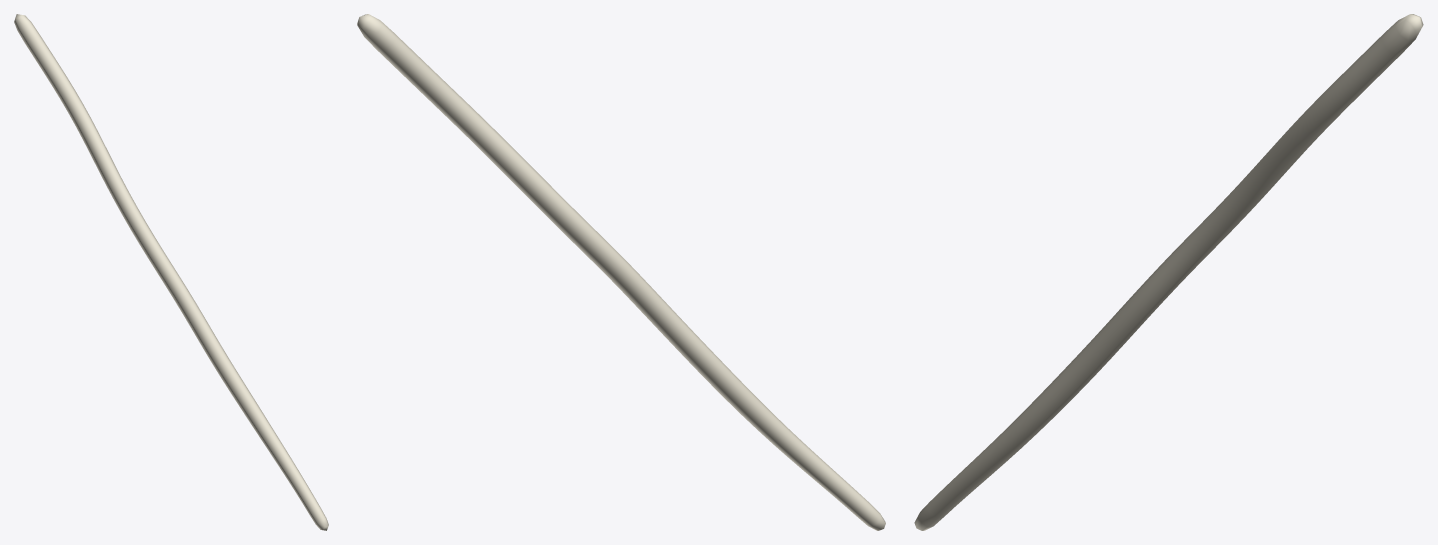
3 views of the same model, side by side, from view 1: azimuth 90°, elevation 25°; view 2: azimuth 150°, elevation 25°; view 3: azimuth 270°, elevation 25° (orthographic). The views are drawn at different scales.
Parts seen in each view (by area): view 1: ZA_4af9e58ee0fc35d3; view 2: ZA_4af9e58ee0fc35d3; view 3: ZA_4af9e58ee0fc35d3.
Part boxes in pixels (x1,y1,x2,y2): ZA_4af9e58ee0fc35d3: (14, 14, 328, 530); ZA_4af9e58ee0fc35d3: (357, 14, 885, 530); ZA_4af9e58ee0fc35d3: (914, 14, 1423, 530).
Bounding box in the file's own units: 0.0249 × 0.047 × 0.0321.
